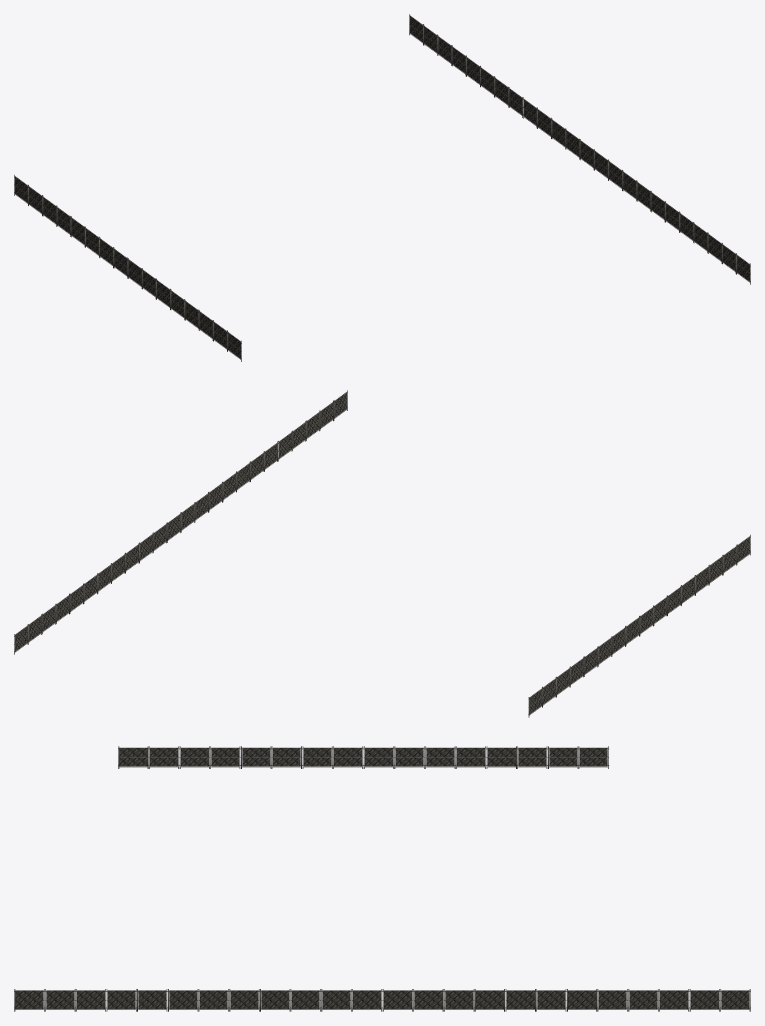
The model's file is Fence.fbx.
The picture shows the model from 3 angles, top to bottom: view 1: azimuth 30°, elevation 25°; view 2: azimuth 150°, elevation 25°; view 3: azimuth 270°, elevation 25°; orthographic projection. The views are drawn at different scales.
Parts seen in each view (by area): view 1: Body_fence01a_reference_smd_mesh_3; view 2: Body_fence01a_reference_smd_mesh_3; view 3: Body_fence01a_reference_smd_mesh_3.
Boxes of the visible parts, x1,y1,x2,y2 form: Body_fence01a_reference_smd_mesh_3: (14,14,750,361); Body_fence01a_reference_smd_mesh_3: (14,390,750,717); Body_fence01a_reference_smd_mesh_3: (14,746,750,1011).
Bounding box in the file's own units: 498 × 21.74 × 638.
Materials: 1 (1 with a texture image).
